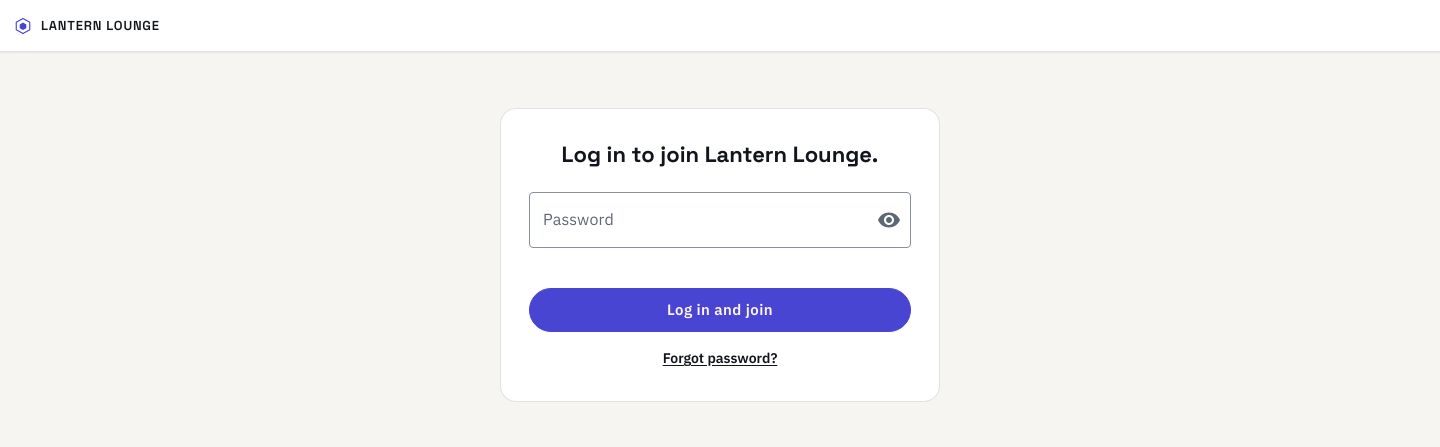
Test: InvitePage › when the submit fails › shows the invite details from the fresh check after a stale nonce
The width and height of the screenshot is (1440, 447).
Expected: the button "Log in and join" is shown, [529,288,911,332]
Type "wrongpass" into the password field labelled "Password". click: x=695, y=220
box: [529,192,861,248]
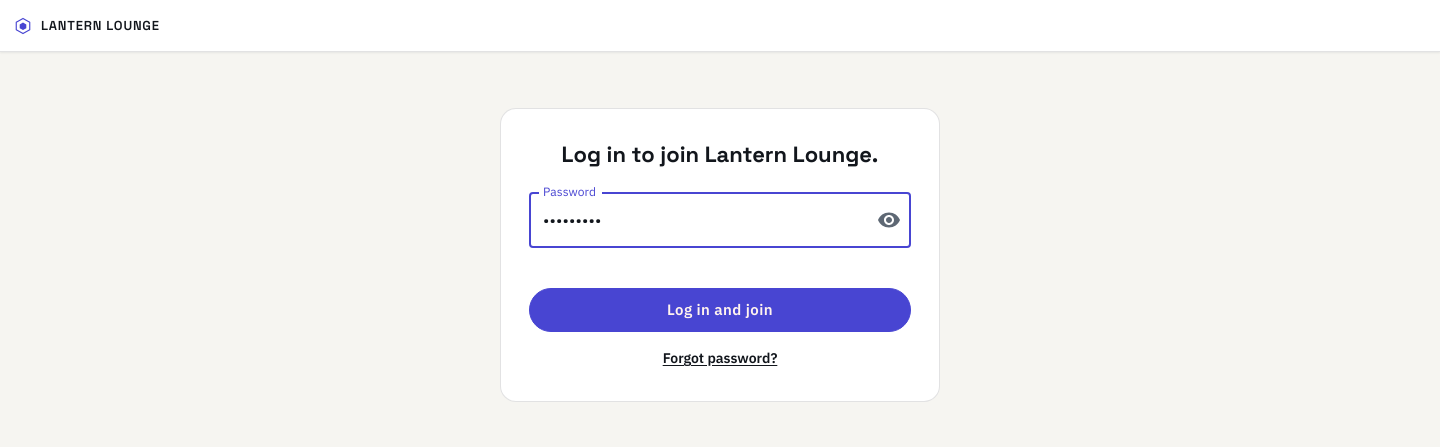
Click the button "Log in and join". click: x=720, y=310
box: [529,288,911,332]
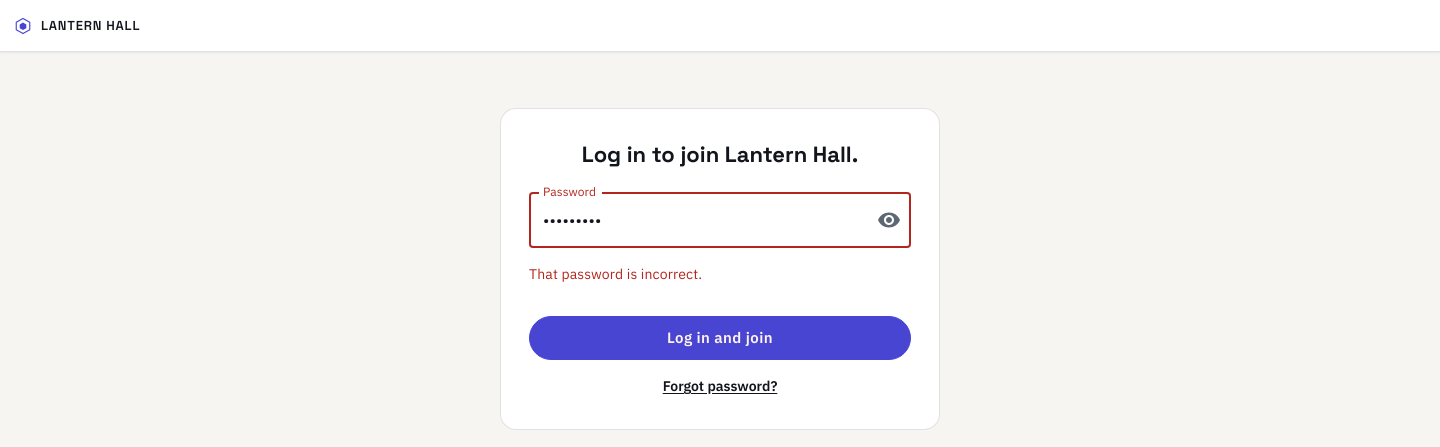
Now the message "That password is incorrect." is shown, box [529,265,702,283]
Now the heading "Lantern Hall" is shown, box [41,16,140,35]
